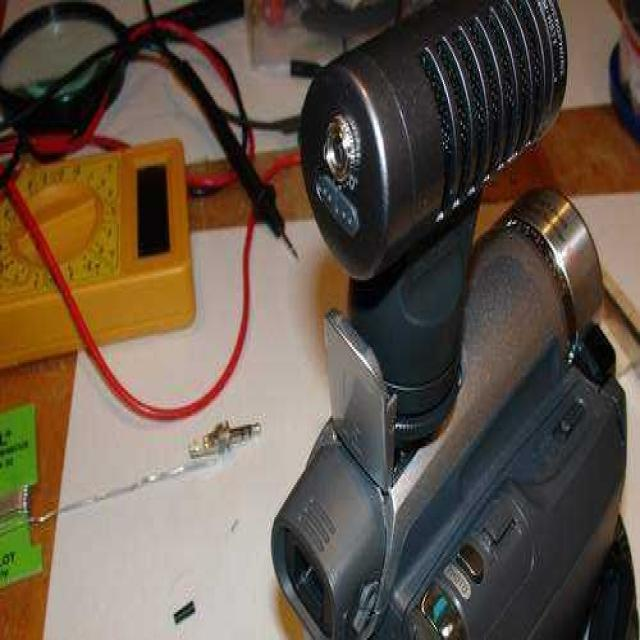microphone: (267, 0, 638, 383)
